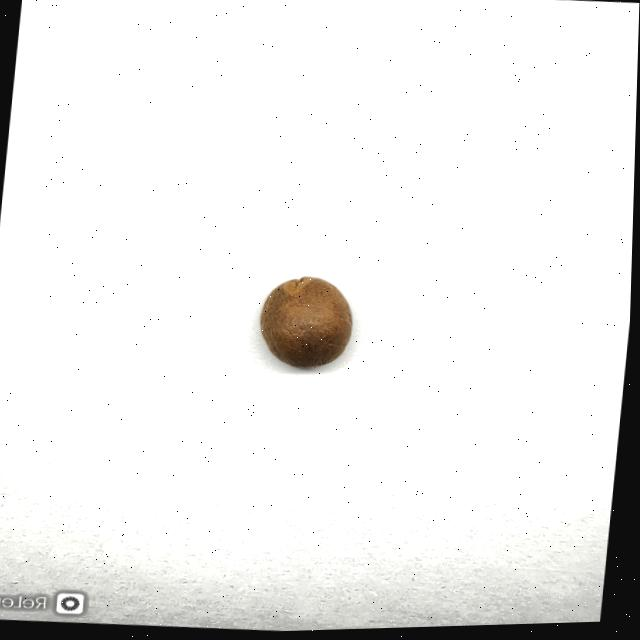Good bean: (257, 275, 360, 372)
